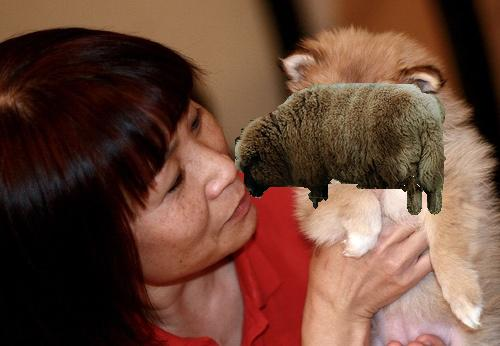tampered: (236, 84, 446, 215)
